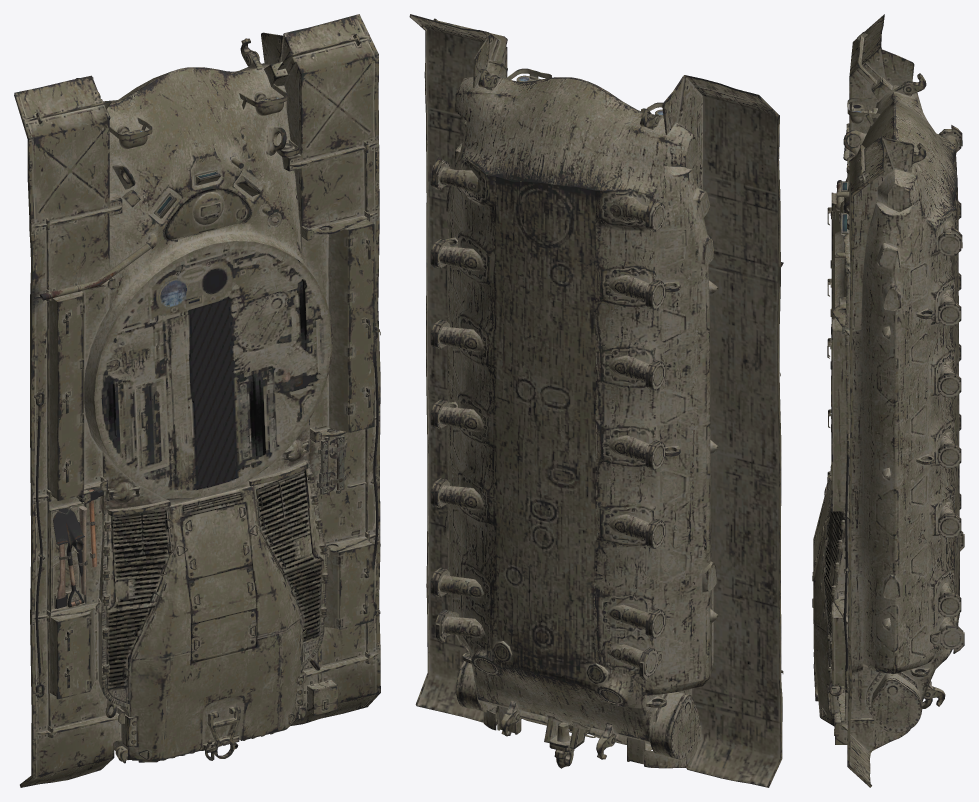
The model's file is Hull.glb.
The picture shows the model from 3 angles, left to right: view 1: azimuth 30°, elevation 25°; view 2: azimuth 150°, elevation 25°; view 3: azimuth 270°, elevation 25°; orthographic projection. The views are drawn at different scales.
Visible parts, largest first — view 1: set_0_group_0; view 2: set_0_group_0; view 3: set_0_group_0.
Boxes of the visible parts, left/top/right/bottom form: set_0_group_0: left=14, top=14, right=380, bottom=787; set_0_group_0: left=409, top=14, right=783, bottom=787; set_0_group_0: left=812, top=14, right=964, bottom=787.
Bounding box in the file's own units: 3.65 × 6.92 × 1.53.
Materials: 1 (1 with a texture image).
